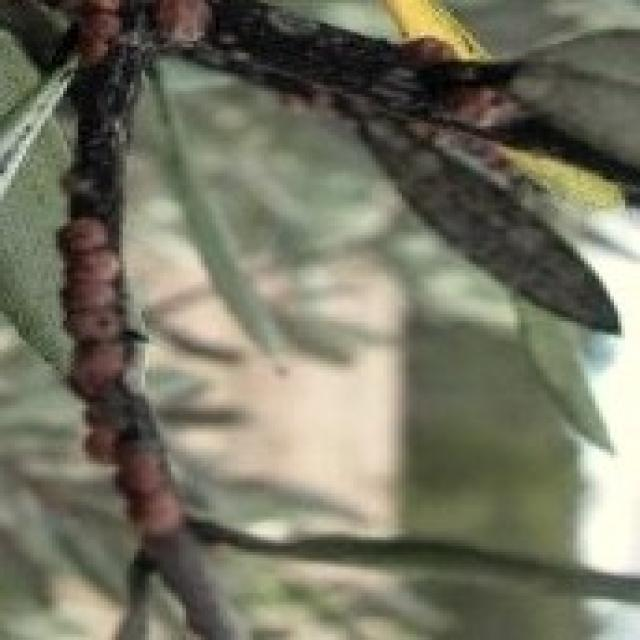BlackScale: (60, 218, 178, 534), (78, 0, 119, 62), (152, 0, 208, 38)
